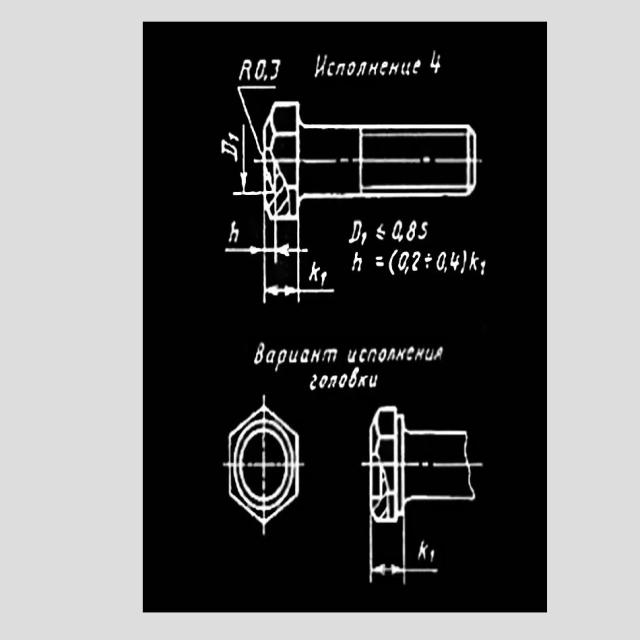marking_line: (368, 525, 439, 586), (390, 525, 441, 590), (261, 264, 337, 306), (231, 124, 261, 198), (235, 82, 262, 155), (224, 223, 267, 261), (272, 222, 309, 264), (366, 525, 389, 588), (235, 81, 278, 100), (461, 249, 469, 277)
numeric: (269, 57, 281, 81), (391, 219, 403, 241), (405, 219, 416, 243), (254, 58, 265, 81), (417, 540, 428, 563), (449, 248, 460, 271), (411, 249, 420, 276), (430, 51, 440, 75), (398, 250, 408, 273), (436, 250, 445, 274), (319, 271, 329, 287), (228, 129, 239, 143), (361, 230, 367, 247), (480, 260, 486, 275), (430, 548, 434, 563)
special_symbol: (388, 248, 399, 276), (374, 221, 385, 244), (374, 254, 385, 270), (423, 253, 432, 270), (405, 265, 410, 276), (263, 74, 268, 83)
